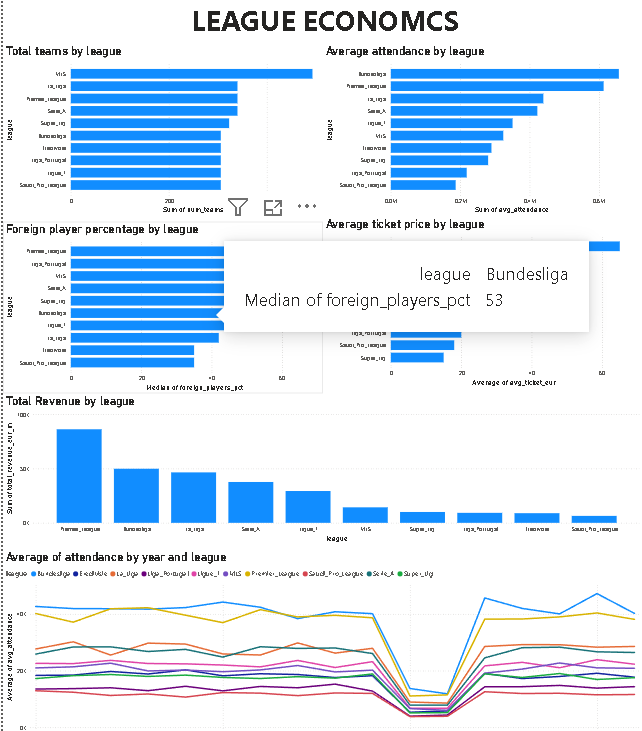

What the dashboard file says about the page in this screenshot:
{"tool":"powerbi","page":{"name":" League Economics","canvas":[1280,1500],"ordinal":2},"visuals":[{"type":"textbox","box":[10,0,1270,90],"z":0},{"type":"clusteredBarChart","title":"Total teams by league","fields":{"Category":["league_metrics.league"],"Y":["Sum(league_metrics.num_teams)"]},"box":[0,90,640,345],"z":1000},{"type":"clusteredBarChart","title":"Average attendance by league","fields":{"Category":["league_metrics.league"],"Y":["Sum(league_metrics.avg_attendance)"]},"box":[640,90,640,345],"z":2000},{"type":"clusteredBarChart","title":"Foreign player percentage by league","fields":{"Category":["league_metrics.league"],"Y":["Median(league_metrics.foreign_players_pct)"]},"box":[0,445,640,345],"z":3000},{"type":"clusteredBarChart","title":"Average ticket price by league","fields":{"Category":["league_metrics.league"],"Y":["Avg(league_metrics.avg_ticket_eur)"]},"box":[640,435,640,345],"z":4000},{"type":"clusteredColumnChart","title":"Total Revenue by league","fields":{"Category":["league_metrics.league"],"Y":["Sum(league_metrics.total_revenue_eur_m)"]},"box":[0,790,1280,301.7],"z":5000},{"type":"lineChart","title":"Average of attendance by year and league","fields":{"Category":["league_metrics.year"],"Y":["Avg(league_metrics.avg_attendance)"],"Series":["league_metrics.league"]},"box":[0,1101.7,1280,398.3],"z":6000}]}

Visuals, with their boxes in screenshot pixels (x1, y1, x2, y2), scaled from the page's 1280x1500 canvas onto the 642x731 screenshot:
textbox: region(5, 0, 641, 44)
"Total teams by league" clusteredBarChart: region(0, 44, 321, 212)
"Average attendance by league" clusteredBarChart: region(321, 44, 641, 212)
"Foreign player percentage by league" clusteredBarChart: region(0, 217, 321, 385)
"Average ticket price by league" clusteredBarChart: region(321, 212, 641, 380)
"Total Revenue by league" clusteredColumnChart: region(0, 385, 641, 532)
"Average of attendance by year and league" lineChart: region(0, 537, 641, 730)
